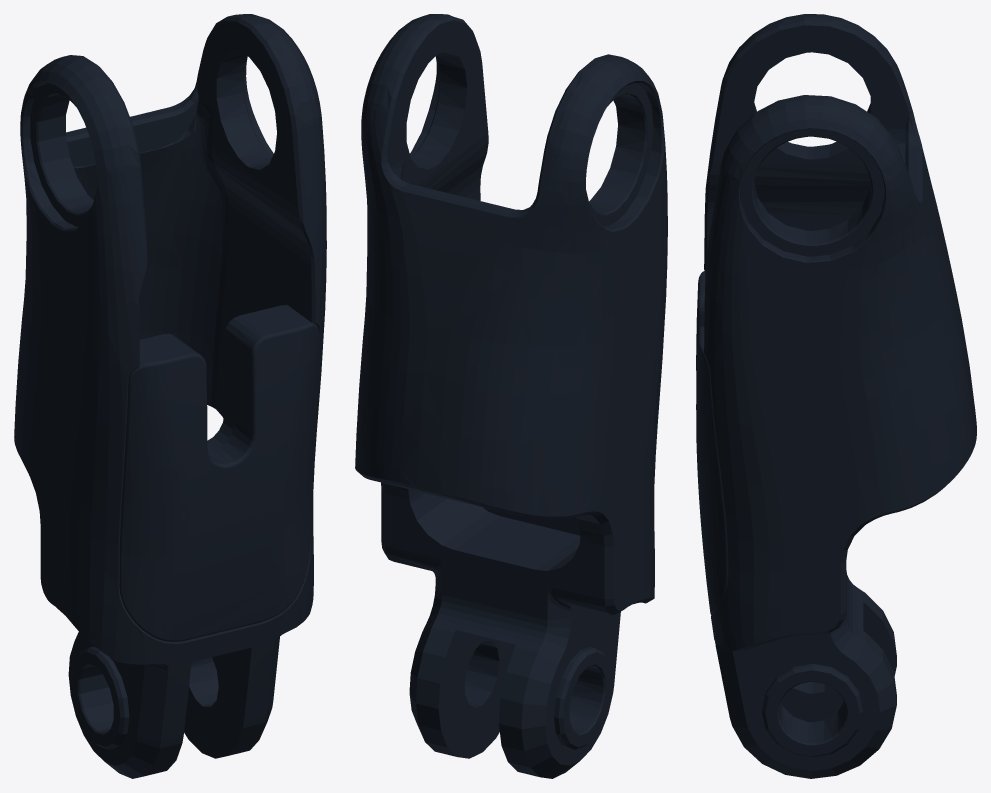
File: L_little_prox.obj
3 renders of one model, left to right at view 1: azimuth 30°, elevation 25°; view 2: azimuth 150°, elevation 25°; view 3: azimuth 270°, elevation 25°, orthographic. The views are drawn at different scales.
Parts seen in each view (by area): view 1: L_little_prox-mesh; view 2: L_little_prox-mesh; view 3: L_little_prox-mesh.
Boxes of the visible parts, x1,y1,x2,y2 form: L_little_prox-mesh: [14, 14, 326, 778]; L_little_prox-mesh: [355, 14, 667, 778]; L_little_prox-mesh: [696, 14, 976, 778].
Size of the model in its own units: 0.0154 by 0.0455 by 0.0166.
